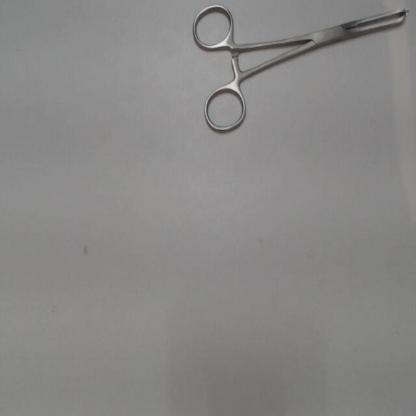Allis Tissue Forceps: (188, 0, 414, 142)
